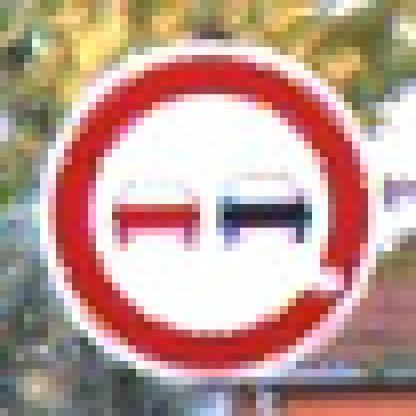No Overtaking: (41, 40, 377, 378)
